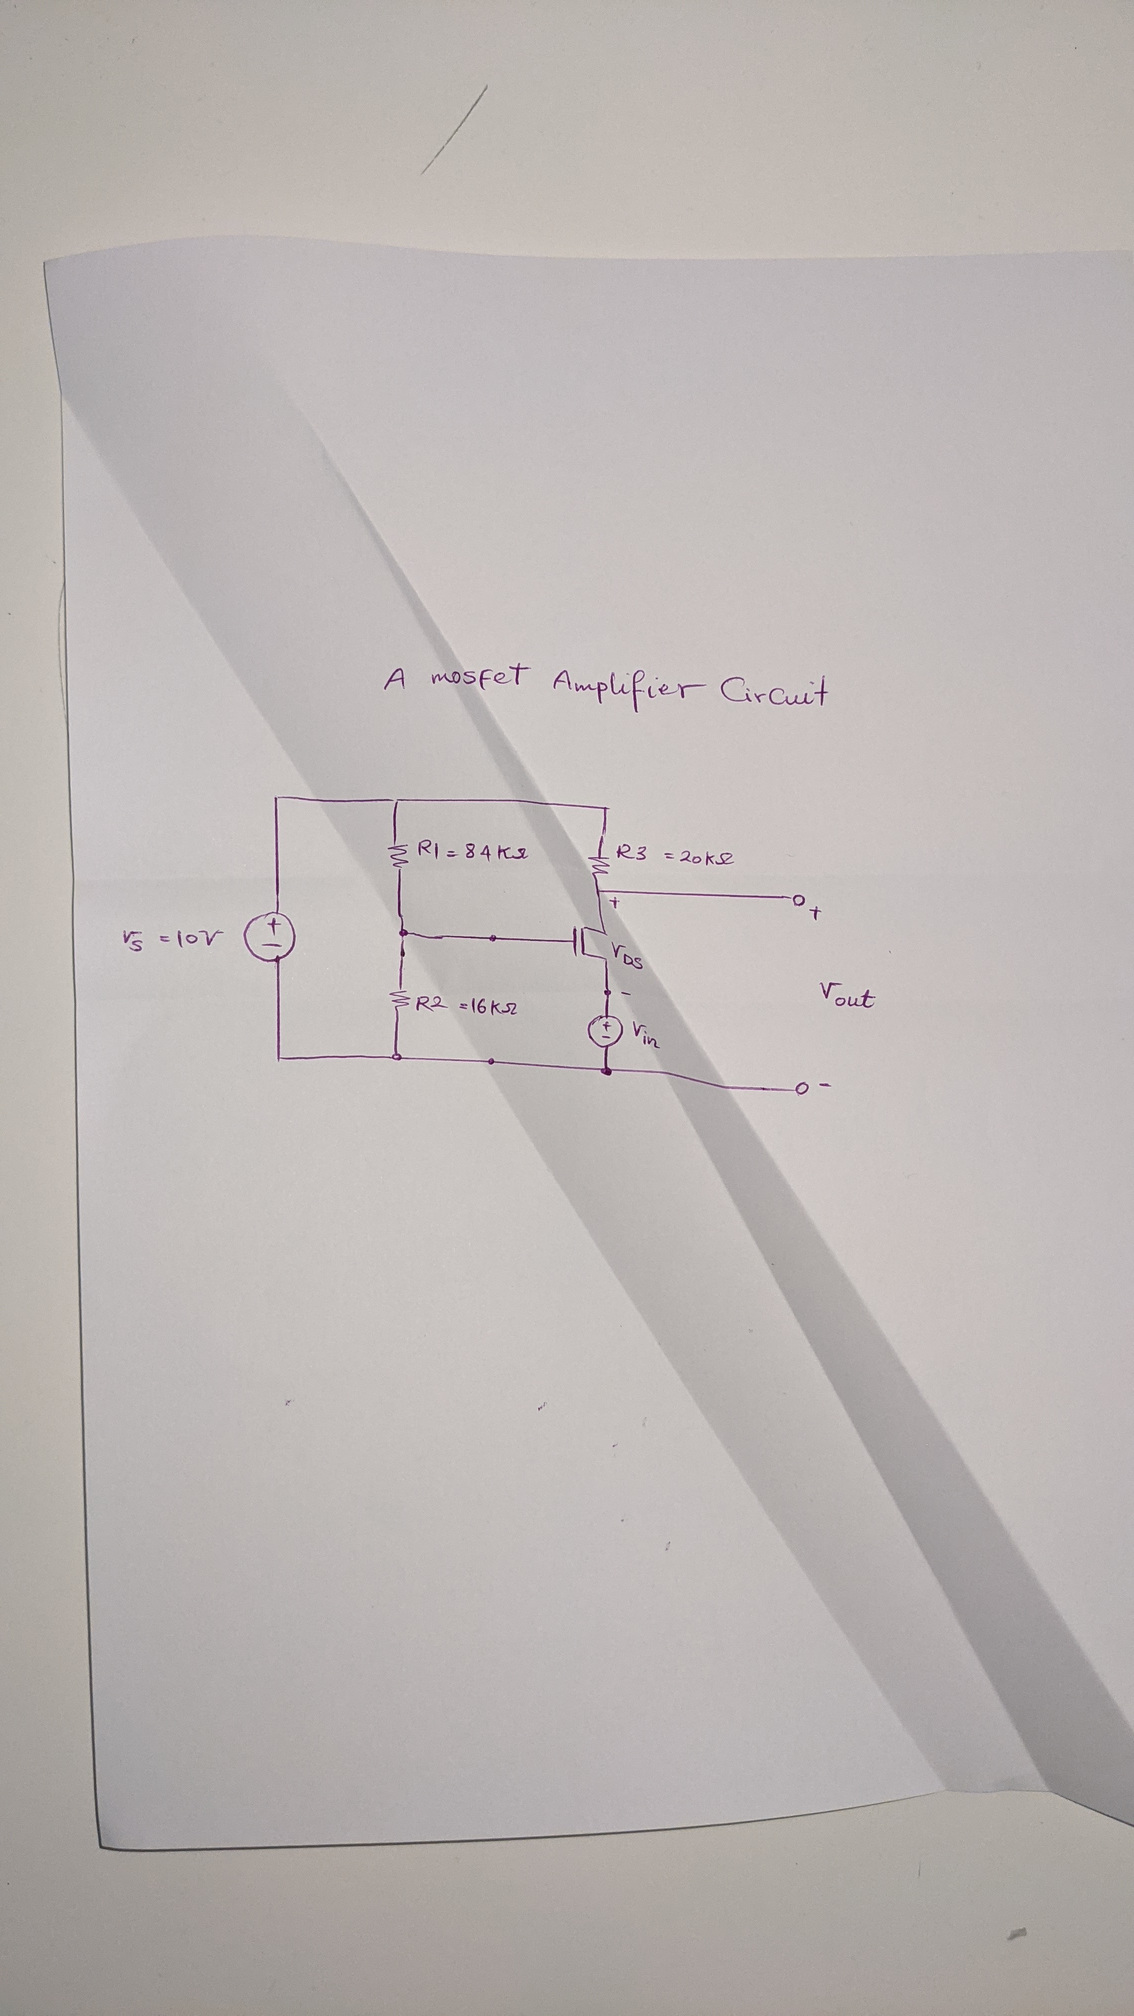junction: (598, 1063, 615, 1079), (397, 928, 411, 942), (389, 1051, 404, 1062), (274, 1054, 287, 1063), (389, 796, 402, 804), (271, 793, 282, 802), (601, 804, 612, 813), (593, 886, 602, 894)
resistor: (385, 840, 411, 871), (388, 987, 413, 1012), (586, 854, 611, 878)
terminal: (786, 892, 807, 908), (791, 1080, 811, 1097)
text: (381, 660, 832, 714), (613, 840, 739, 870), (120, 925, 227, 955), (415, 836, 532, 864), (414, 993, 521, 1020), (816, 979, 876, 1011), (608, 939, 647, 972), (630, 1018, 662, 1052), (807, 904, 824, 921), (816, 1079, 836, 1091), (606, 894, 620, 908), (619, 989, 631, 1000)
transistor: (570, 924, 611, 964)
voltage.dc: (241, 908, 298, 964), (584, 1014, 624, 1050)
